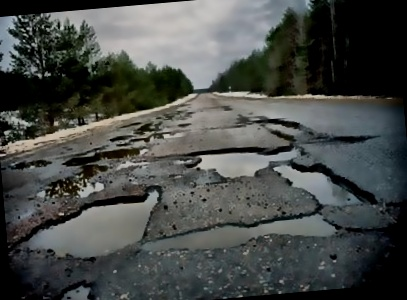pothole: (4, 182, 170, 268), (142, 207, 341, 258), (270, 154, 380, 213), (184, 142, 305, 185), (37, 161, 112, 201), (253, 112, 314, 147), (61, 143, 151, 165), (54, 277, 96, 300), (7, 156, 53, 170), (330, 131, 371, 146)
